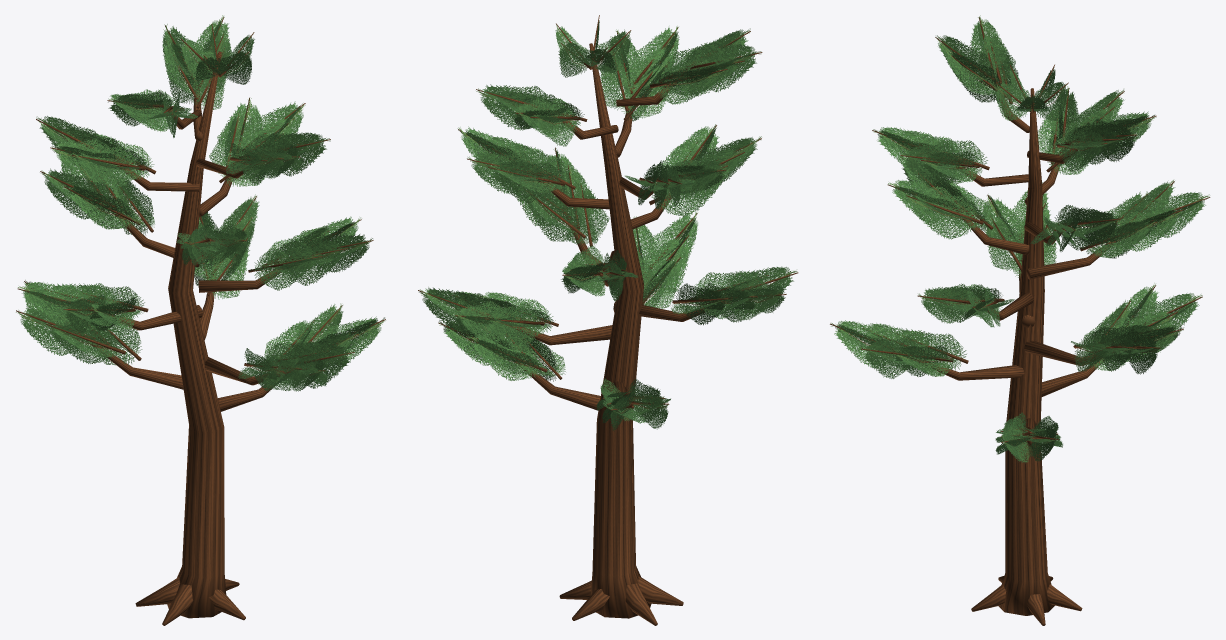
File: NaturalPine_LOD0.glb
3 renders of one model, left to right at view 1: azimuth 30°, elevation 25°; view 2: azimuth 150°, elevation 25°; view 3: azimuth 270°, elevation 25°, orthographic. The views are drawn at different scales.
Visible parts, largest first — view 1: SM_NaturalPine_Foliage_LOD0, SM_NaturalPine_Bark_LOD0; view 2: SM_NaturalPine_Foliage_LOD0, SM_NaturalPine_Bark_LOD0; view 3: SM_NaturalPine_Foliage_LOD0, SM_NaturalPine_Bark_LOD0.
Boxes of the visible parts, <box> form: SM_NaturalPine_Foliage_LOD0: <box>16,15,384,391</box>; SM_NaturalPine_Bark_LOD0: <box>16,17,385,625</box>; SM_NaturalPine_Foliage_LOD0: <box>419,20,797,431</box>; SM_NaturalPine_Bark_LOD0: <box>418,15,798,625</box>; SM_NaturalPine_Foliage_LOD0: <box>830,15,1209,462</box>; SM_NaturalPine_Bark_LOD0: <box>830,17,1210,625</box>.
Size of the model in its own units: 5.32 by 8.1 by 5.21.
Materials: 2 (2 with a texture image).
